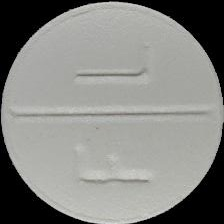33261-686: (0, 0, 224, 224)
